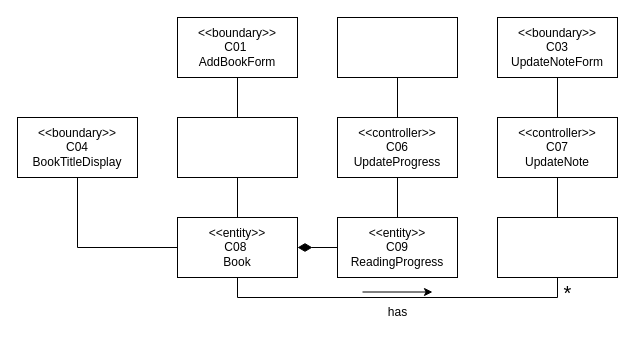
Some shapes in this 635 by 345 pixel diagram are drawn without their labels. The centre of each missing label's shape, as x and y in pixels:
"<<boundary>> C02 UpdateProgressForm" goes at point 397,47.
"<<controller>> C05 UpdateBook" goes at point 237,147.
"<<entity>> C10 Note" goes at point 557,247.
